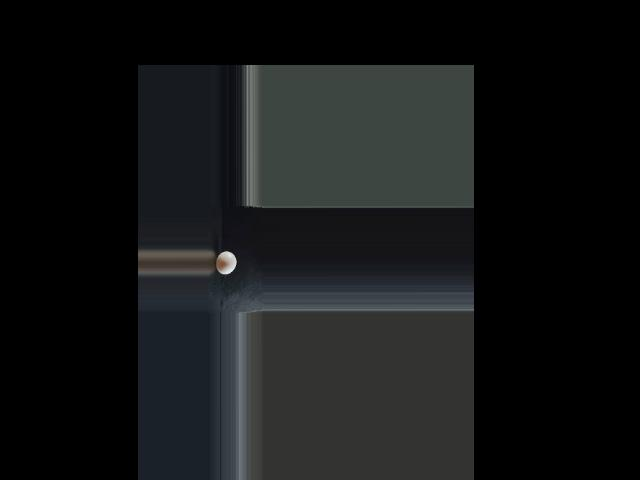egg: (215, 251, 236, 274)
